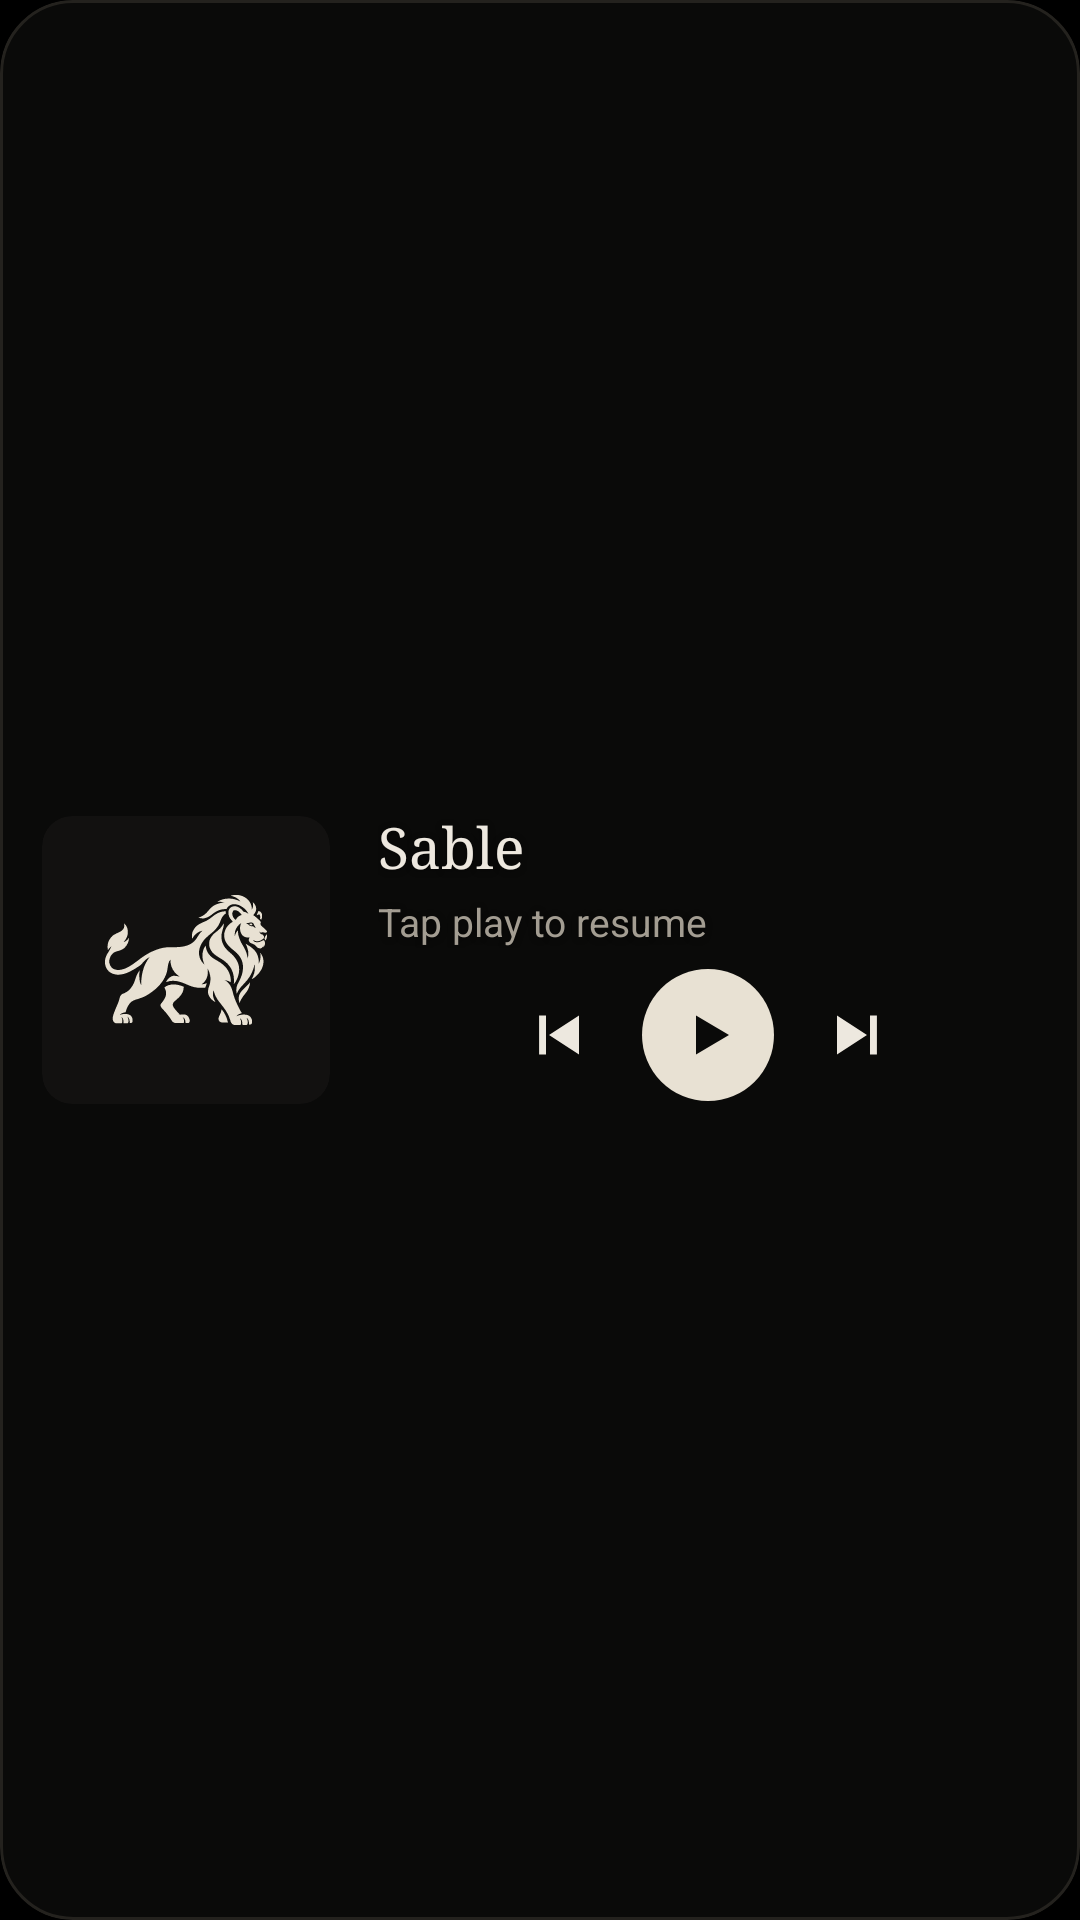

Icon click points for this 1080*1920 phone screenshot, format point (x, y):
Next song: point (857, 1035)
Play or pause: point (708, 1035)
Previous song: point (559, 1035)
widget lion: point (186, 960)
